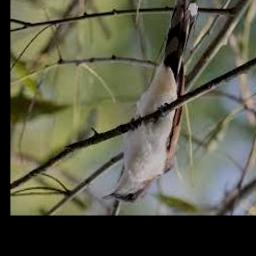Cuckoo: (102, 0, 199, 203)
